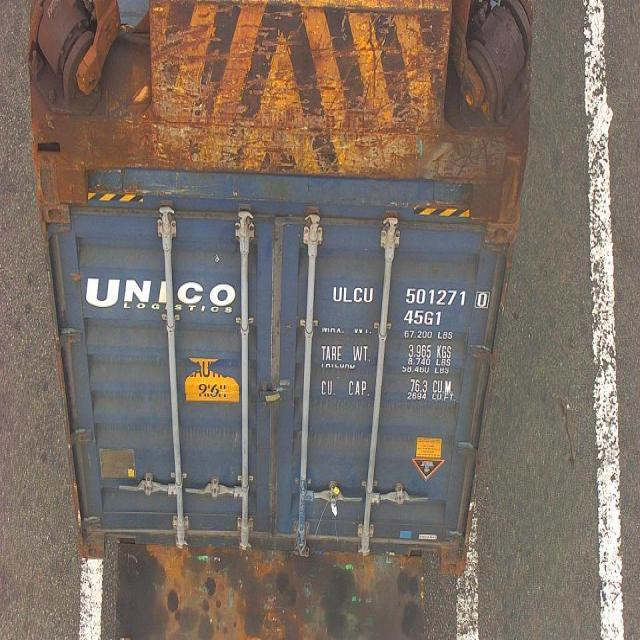ISO: (406, 310, 444, 326)
container_number: (336, 287, 484, 308)
